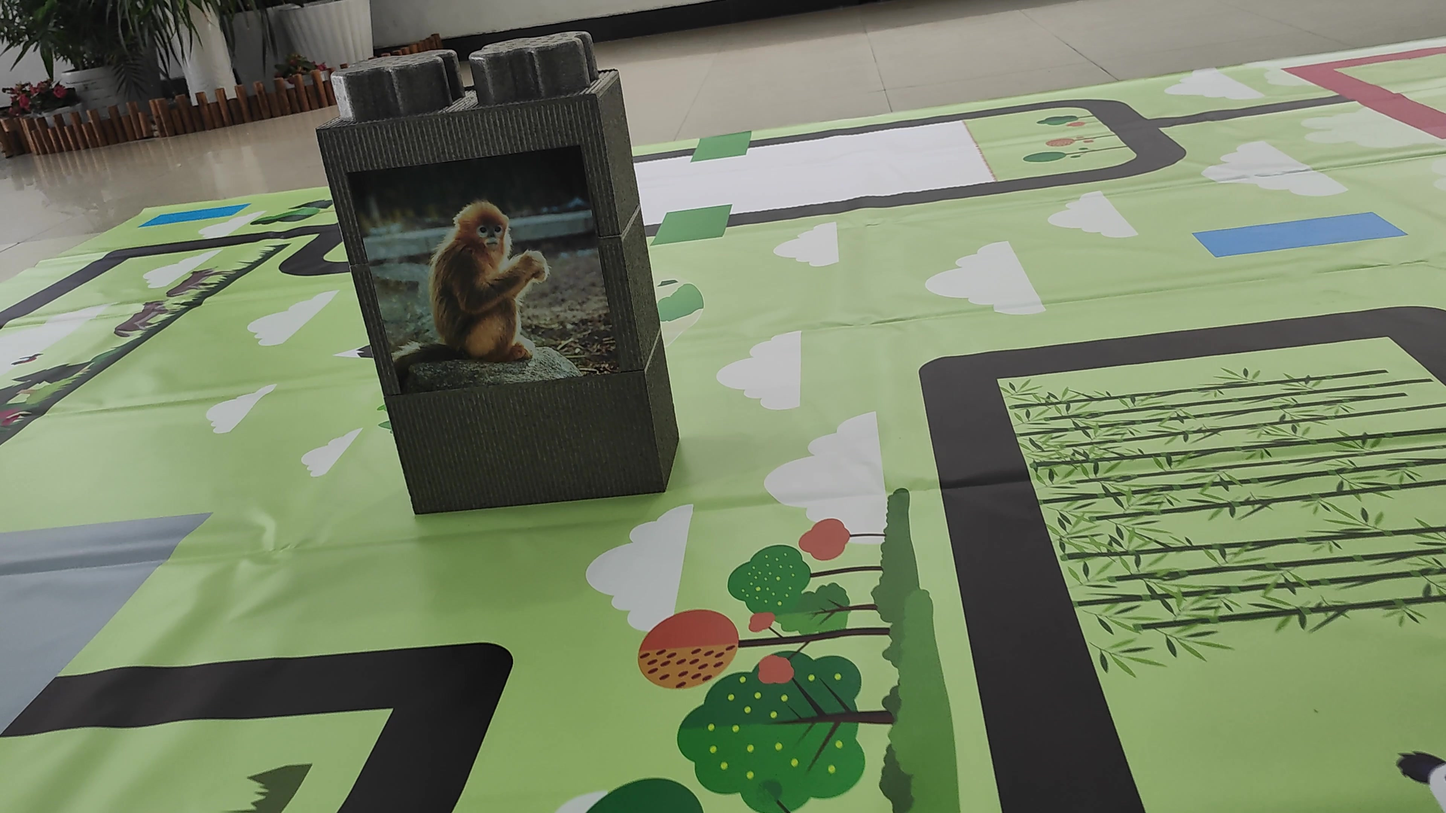monkey: (370, 177, 567, 378)
